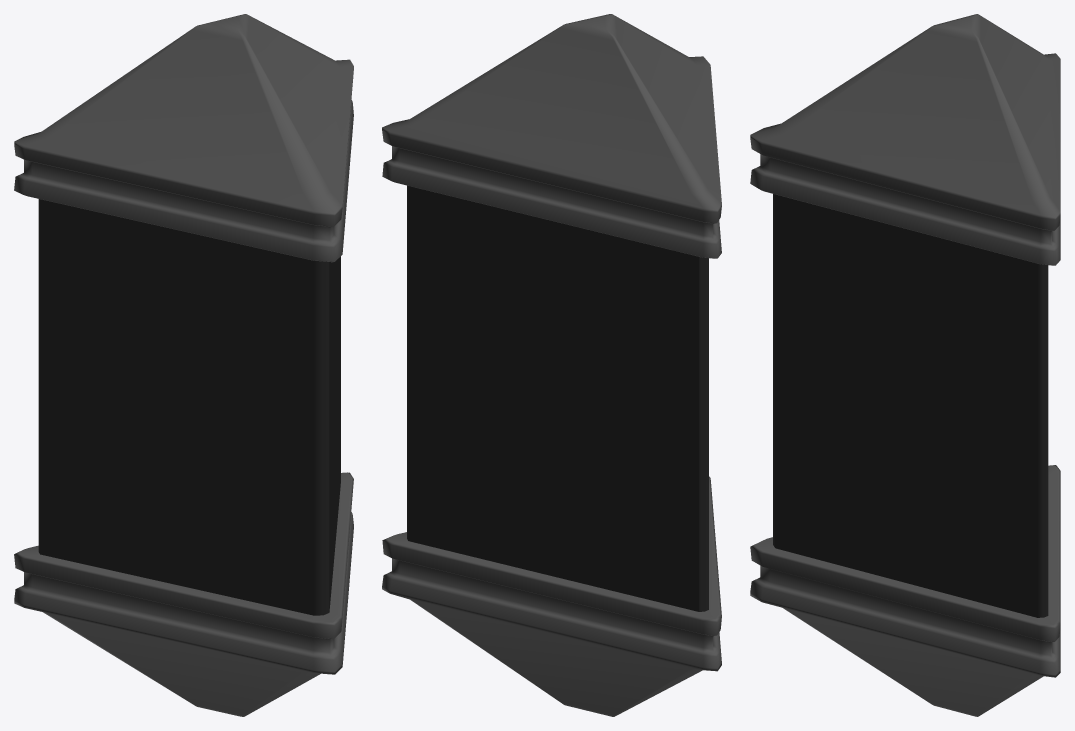
Rendered from _Grenade_04.fbx.
The picture shows the model from 3 angles, left to right: view 1: azimuth 30°, elevation 25°; view 2: azimuth 150°, elevation 25°; view 3: azimuth 270°, elevation 25°; orthographic projection.
Visible parts, largest first — view 1: Grenade_04; view 2: Grenade_04; view 3: Grenade_04.
Boxes of the visible parts, x1,y1,x2,y2 form: Grenade_04: (14,14,353,716); Grenade_04: (382,14,721,716); Grenade_04: (750,14,1060,716).
Bounding box in the file's own units: 54.19 × 106 × 43.5.
Materials: 1 (1 with a texture image).
